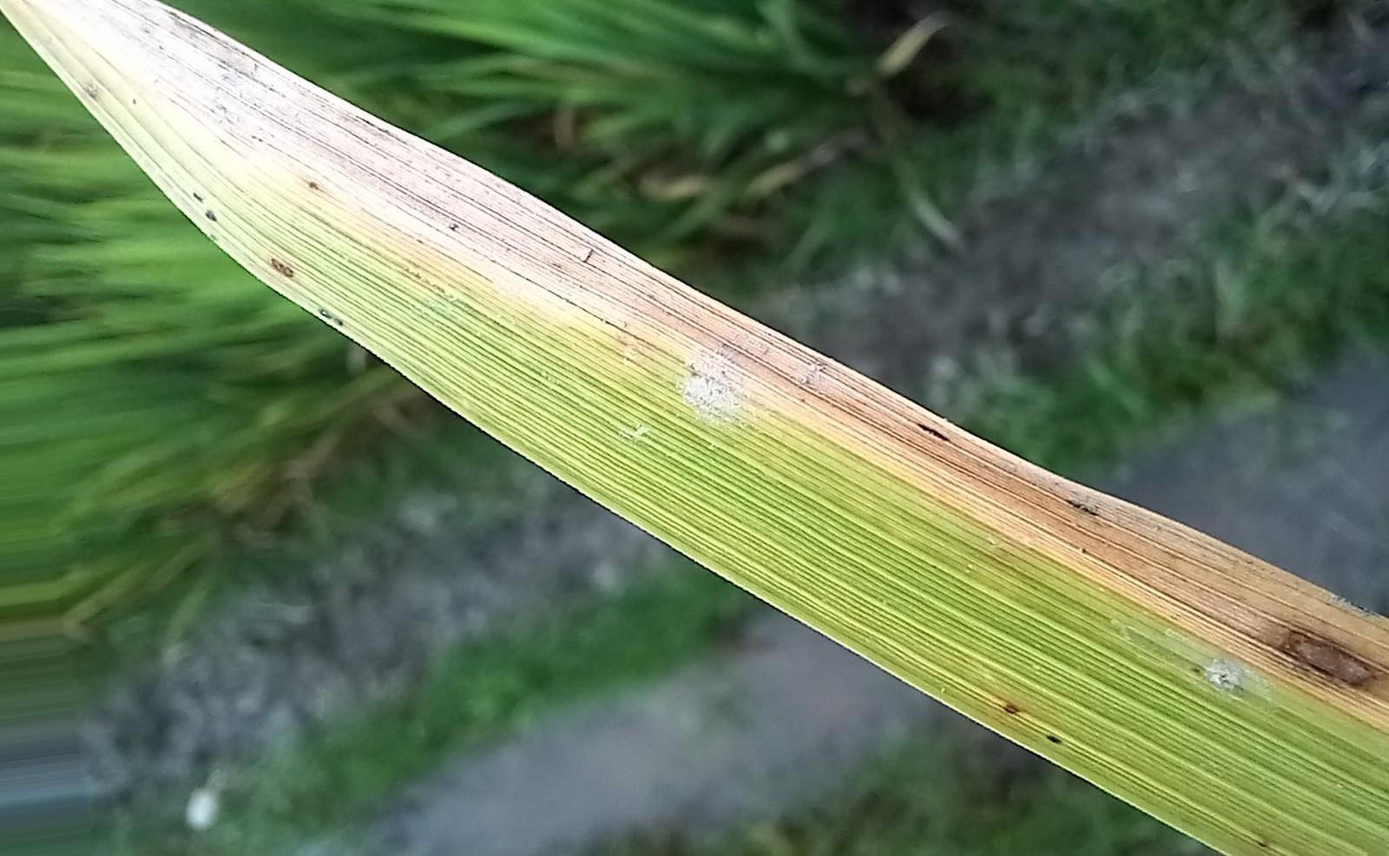LEAF BLAST: (1285, 630, 1377, 685)
